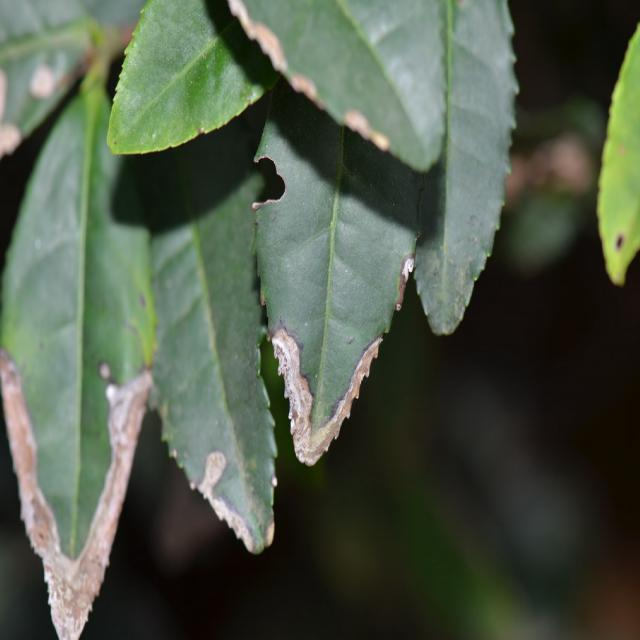Tea cloud leaf blight: (9, 371, 130, 627), (276, 273, 384, 468), (155, 397, 281, 553)
